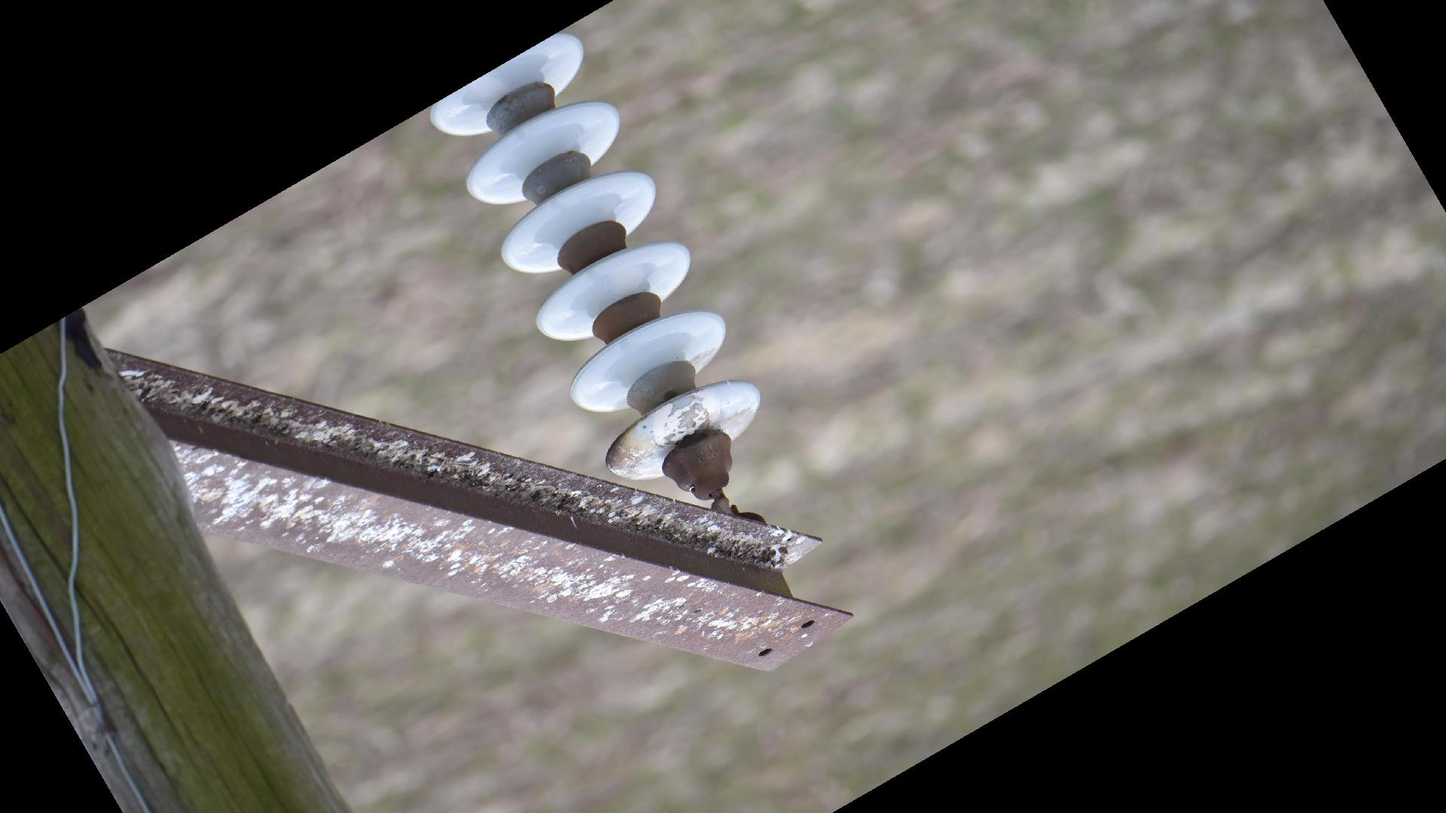insulator: (419, 28, 767, 486)
insulator_flashover: (653, 391, 712, 448)
